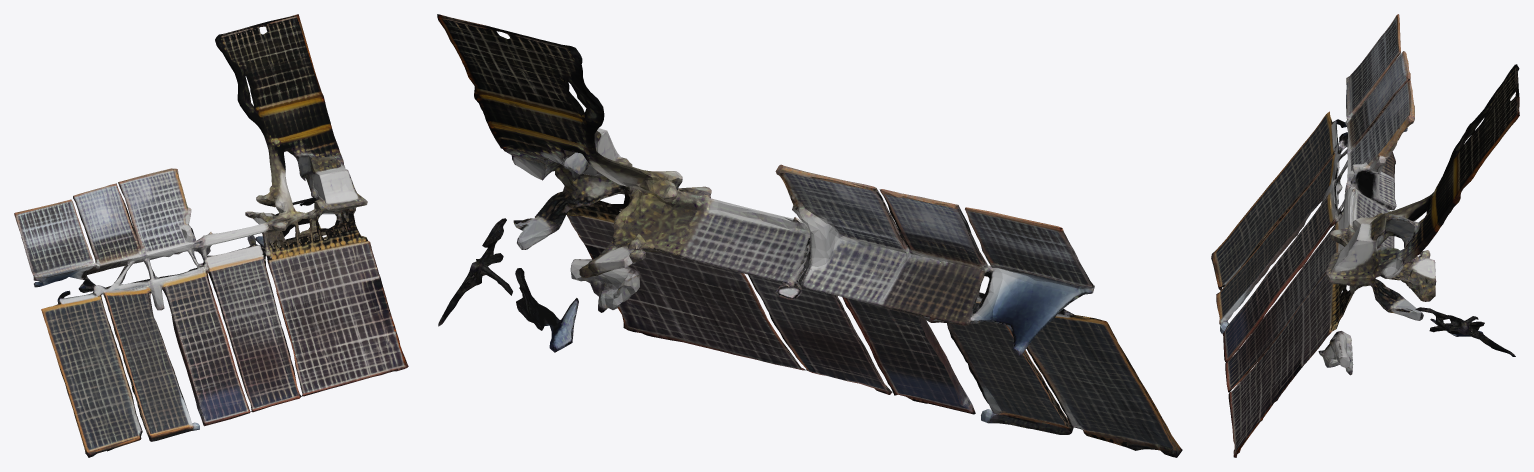
File: RadiationShielding.glb
3 renders of one model, left to right at view 1: azimuth 30°, elevation 25°; view 2: azimuth 150°, elevation 25°; view 3: azimuth 270°, elevation 25°, orthographic. The views are drawn at different scales.
Visible parts, largest first — view 1: world; view 2: world; view 3: world.
Part boxes in pixels (bbox=[...]): world: bbox=[14, 14, 408, 457]; world: bbox=[437, 14, 1182, 457]; world: bbox=[1211, 14, 1519, 457].
Bounding box in the file's own units: 1 × 0.7987 × 0.6302.
1 material, 1 textured.
